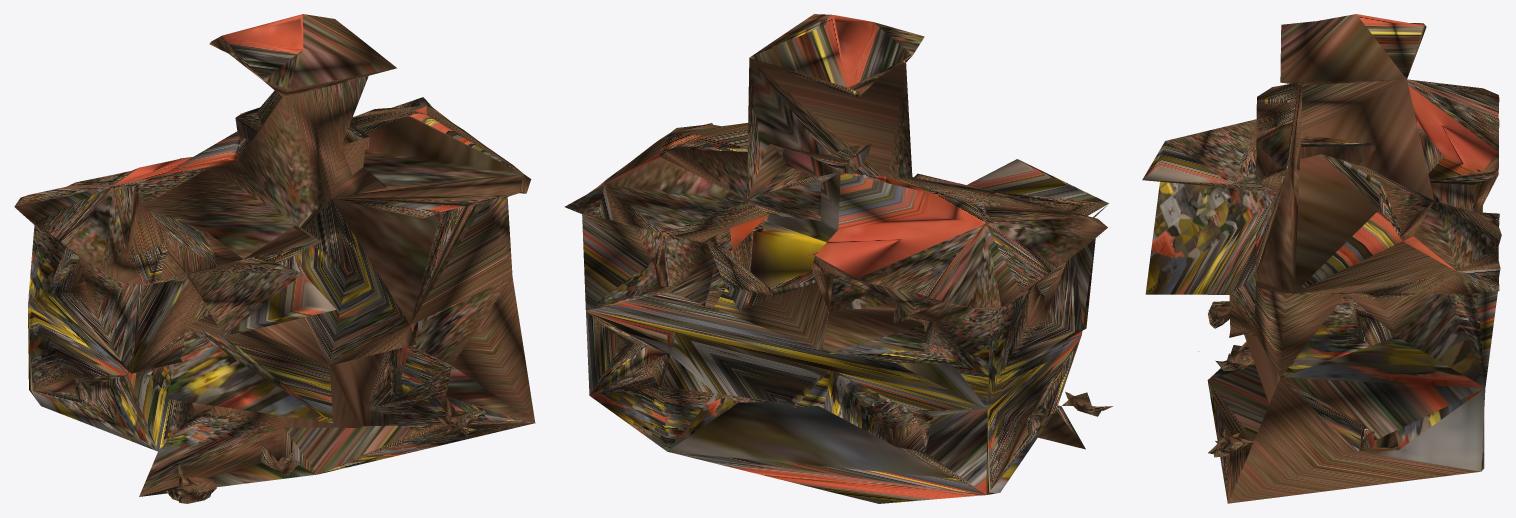
File: Mediterranean_Villa.glb
3 renders of one model, left to right at view 1: azimuth 30°, elevation 25°; view 2: azimuth 150°, elevation 25°; view 3: azimuth 270°, elevation 25°, orthographic. The views are drawn at different scales.
Parts seen in each view (by area): view 1: Mediterranean_Villa; view 2: Mediterranean_Villa; view 3: Mediterranean_Villa.
Part boxes in pixels (x1,y1,x2,y2): Mediterranean_Villa: (14,14,535,503); Mediterranean_Villa: (565,14,1112,503); Mediterranean_Villa: (1142,14,1501,503).
Bounding box in the file's own units: 1.89 × 1.74 × 1.39.
1 material, 1 textured.
